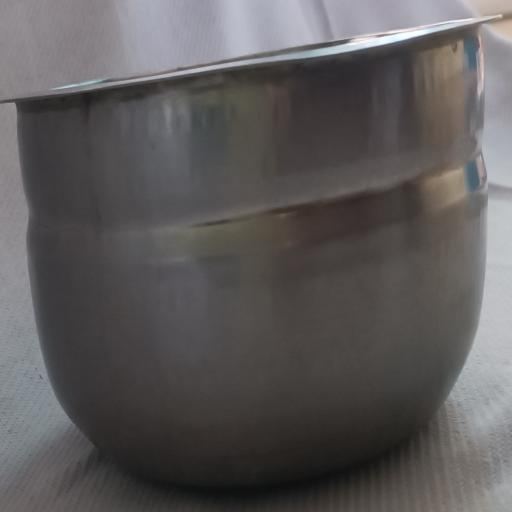vessel: (7, 17, 493, 486)
